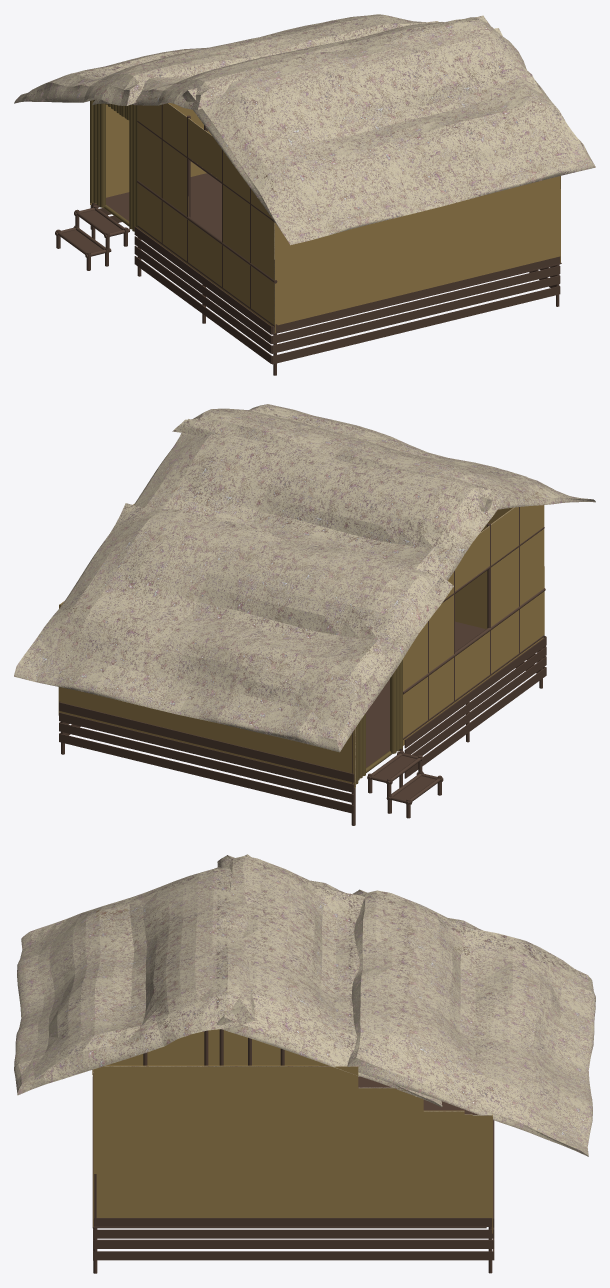
The picture shows the model from 3 angles, top to bottom: view 1: azimuth 30°, elevation 25°; view 2: azimuth 150°, elevation 25°; view 3: azimuth 270°, elevation 25°; orthographic projection. The views are drawn at different scales.
Visible parts, largest first — view 1: 2; view 2: 2; view 3: 2.
Boxes of the visible parts, bbox=[...] form: 2: bbox=[14, 14, 595, 375]; 2: bbox=[14, 404, 595, 825]; 2: bbox=[14, 854, 595, 1273].
Bounding box in the file's own units: 30.99 × 22.02 × 42.91.
8 materials, 8 textured.
